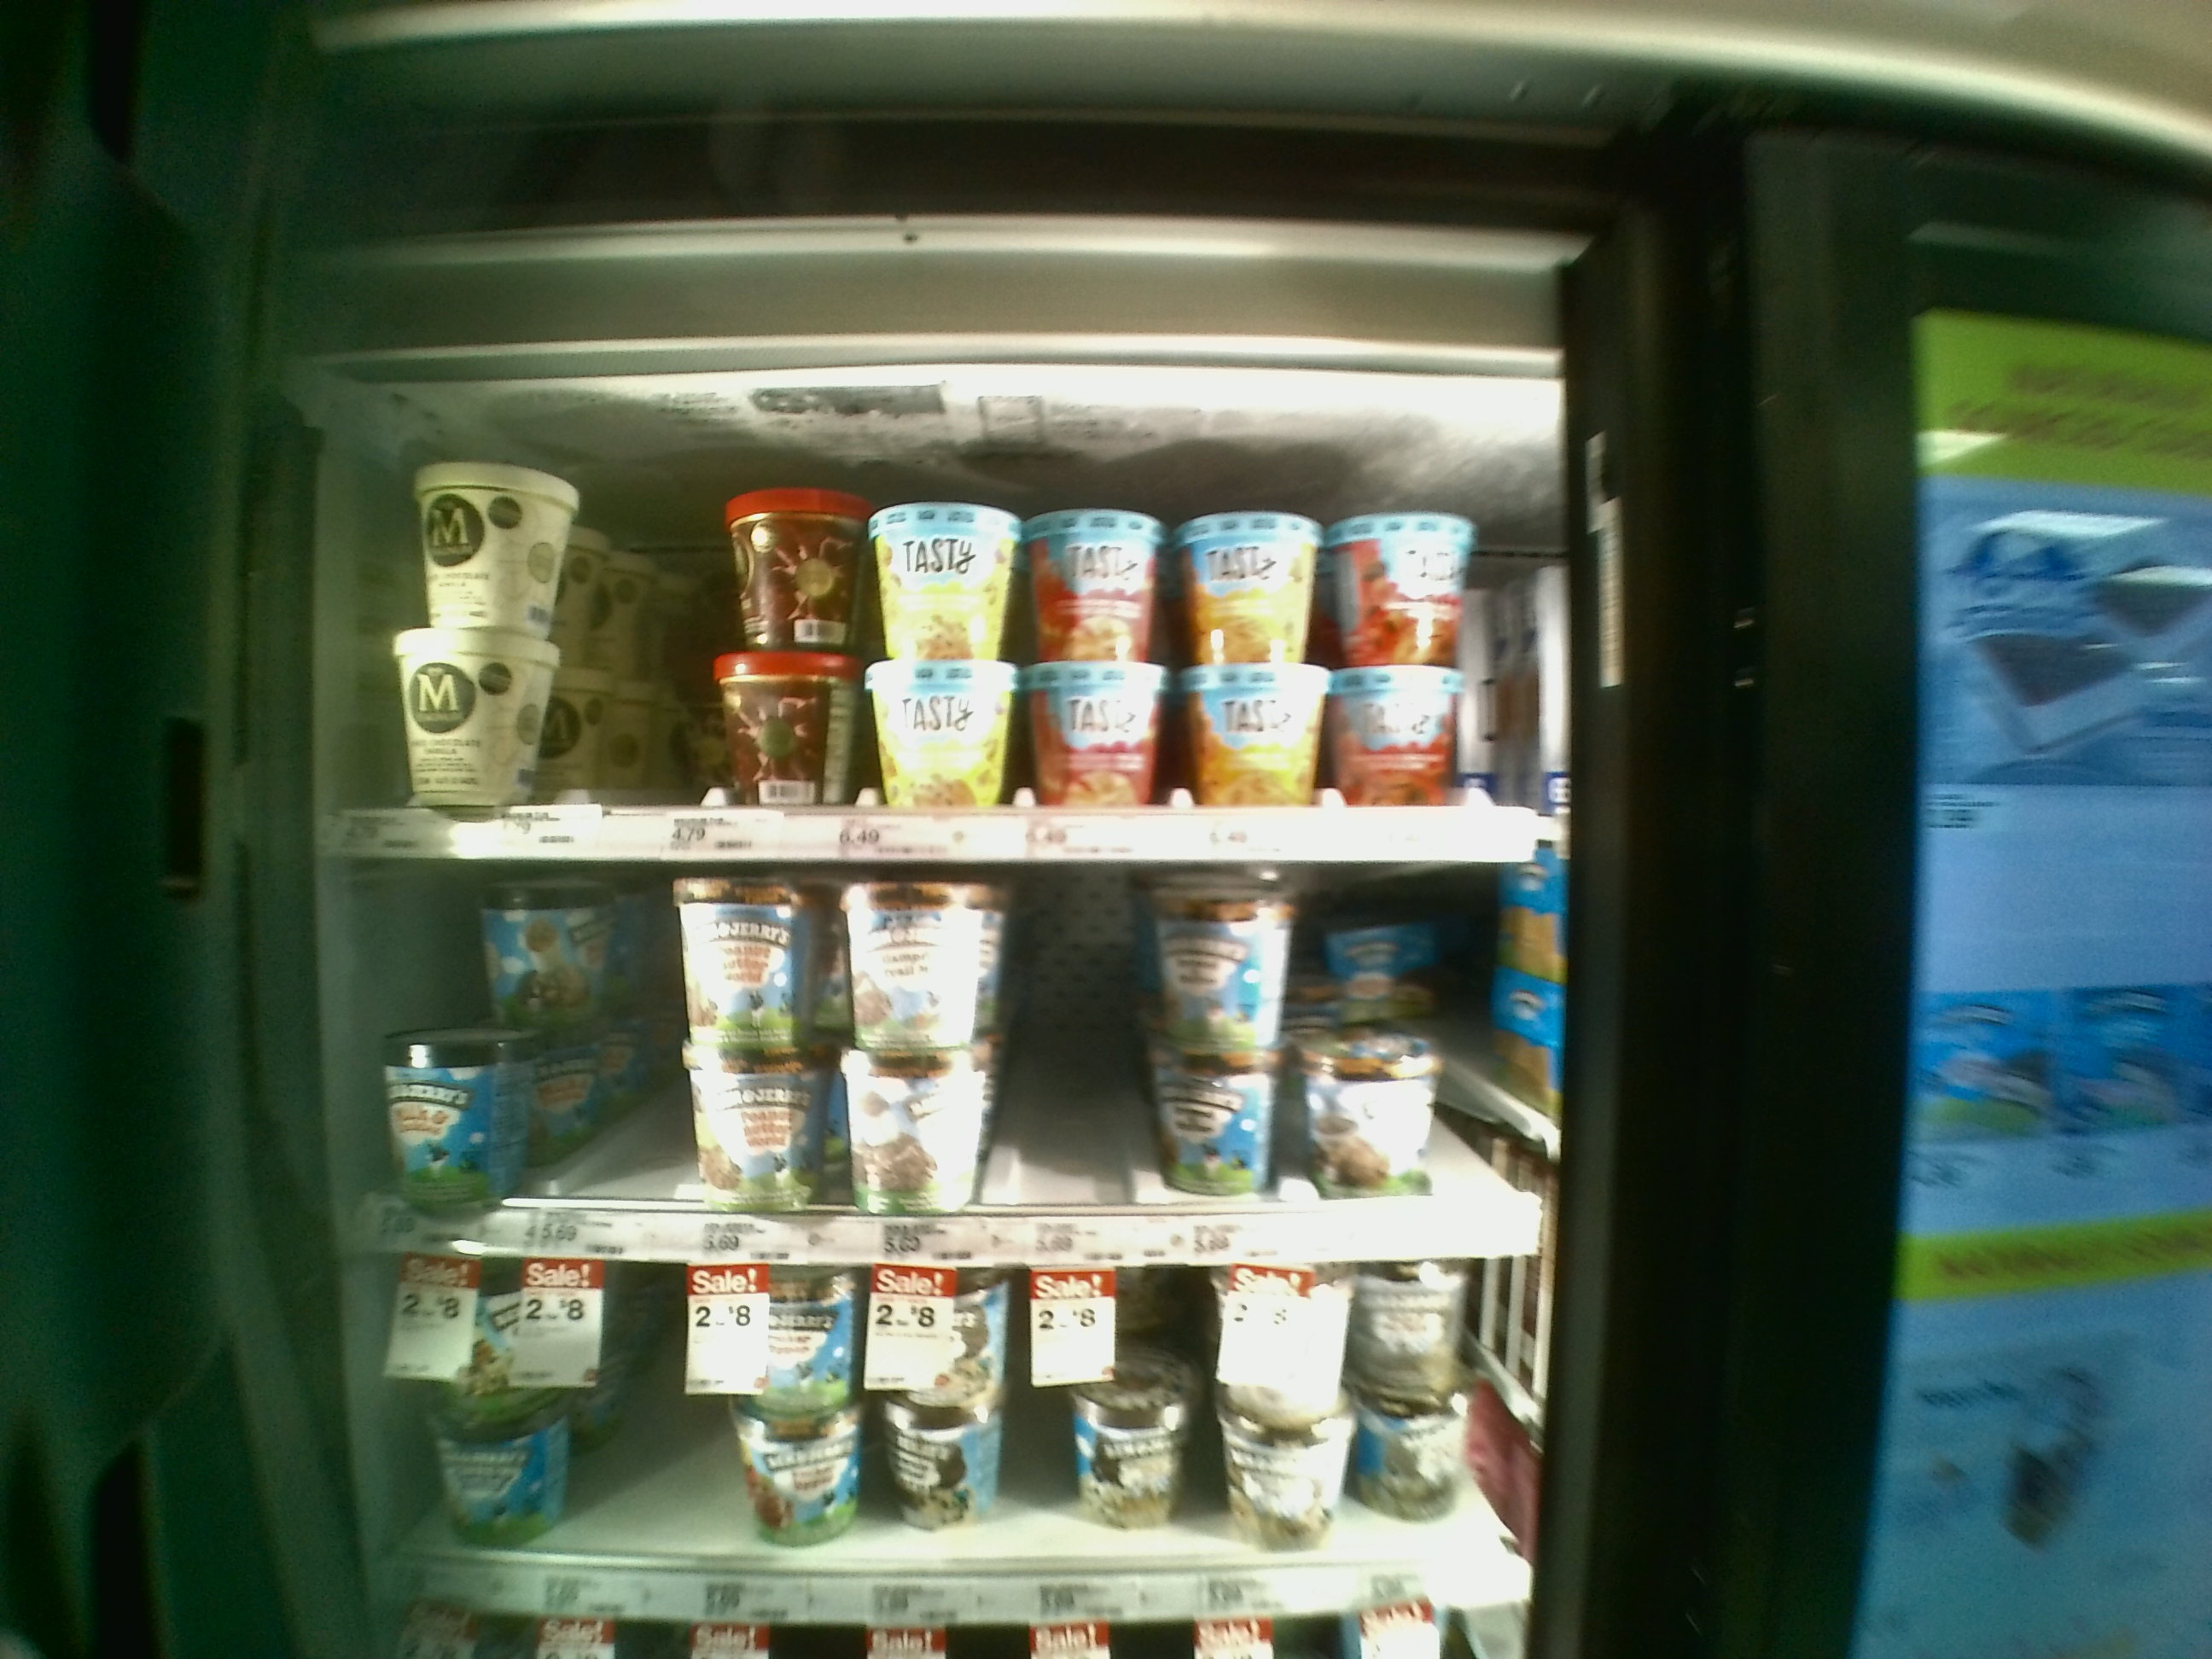ice-cream-shelf: (336, 387, 1550, 857), (331, 864, 1545, 1256), (329, 1256, 1550, 1622)
